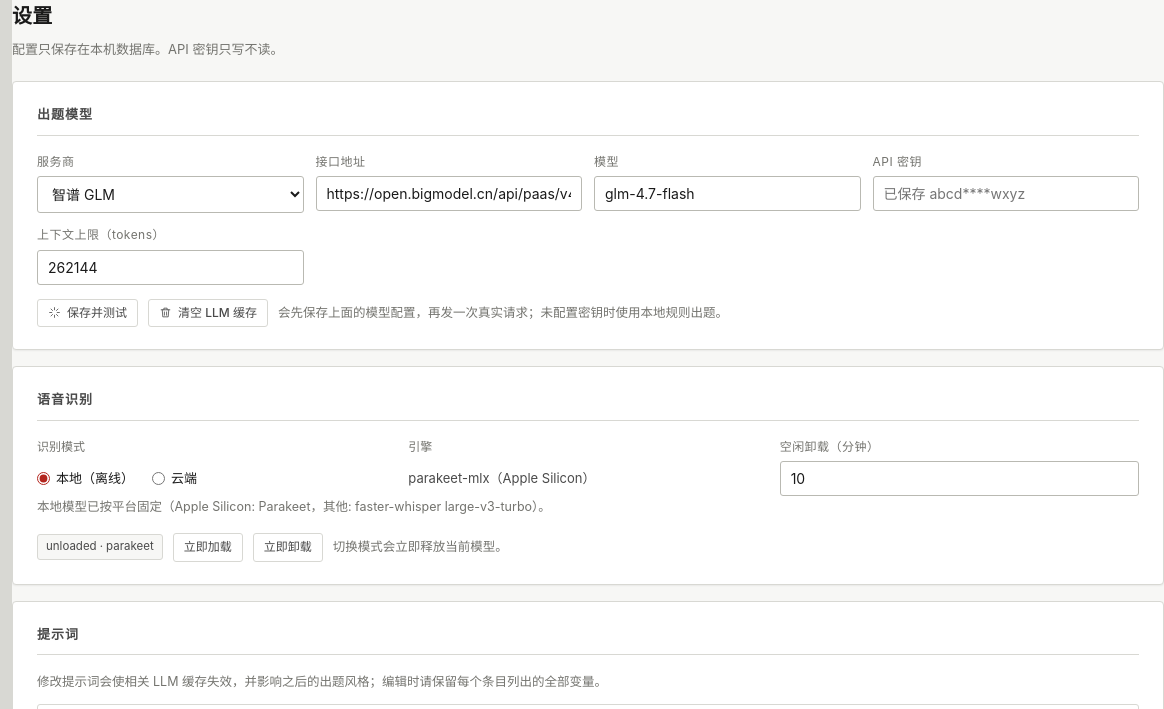
SettingsView › shows the cloud test failure message verbatim too
This screenshot has width=1164, height=709.
Click the radio button labelled "云端". click: {"x": 158, "y": 478}
box: [152, 472, 165, 485]
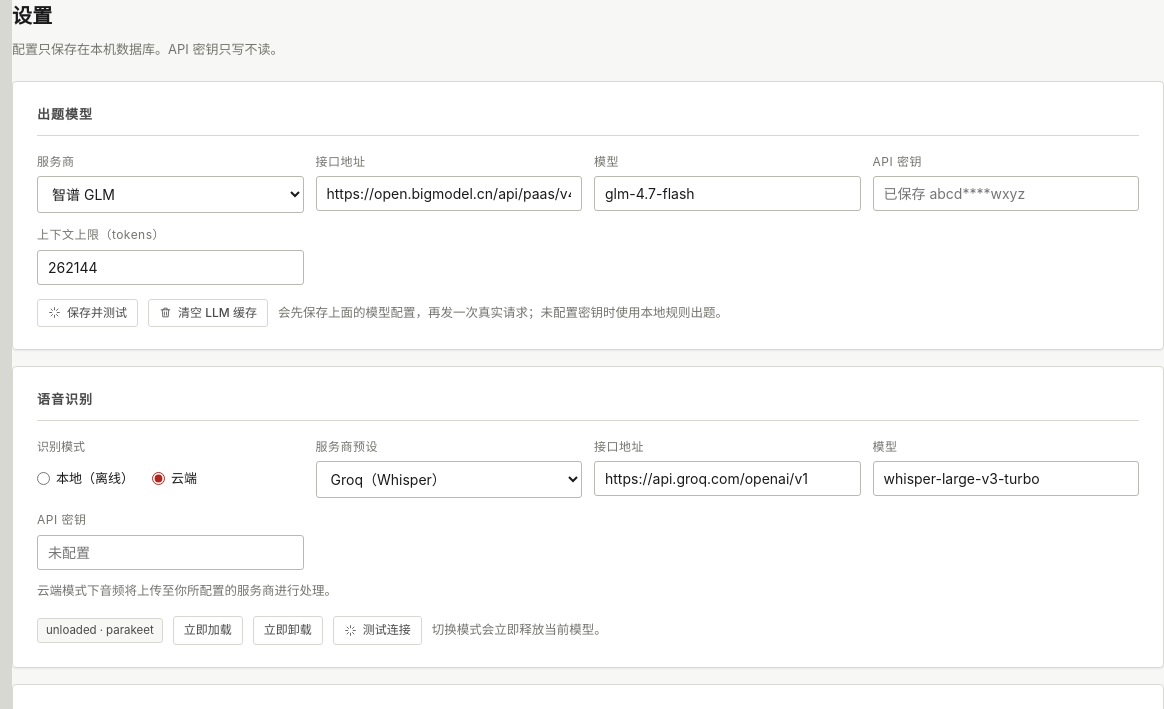
Click the button "测试连接". click: {"x": 377, "y": 630}
box: [333, 616, 422, 645]
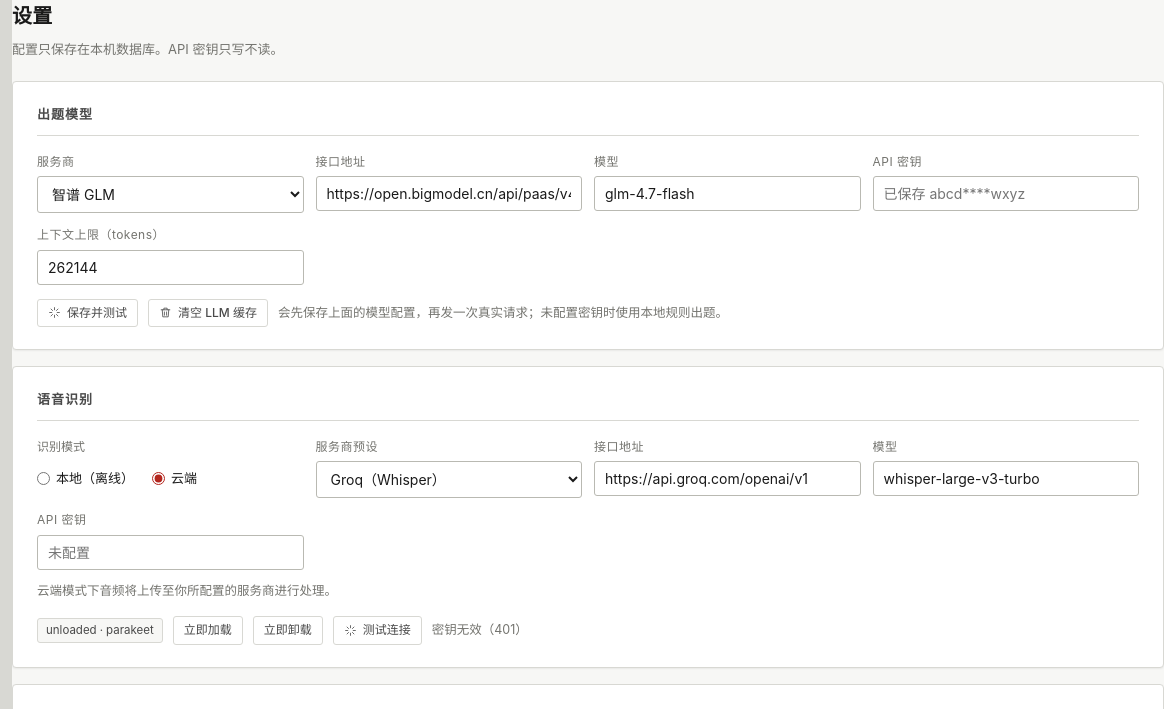
Check: the text "密钥无效（401）" is shown, box [432, 619, 528, 642]
